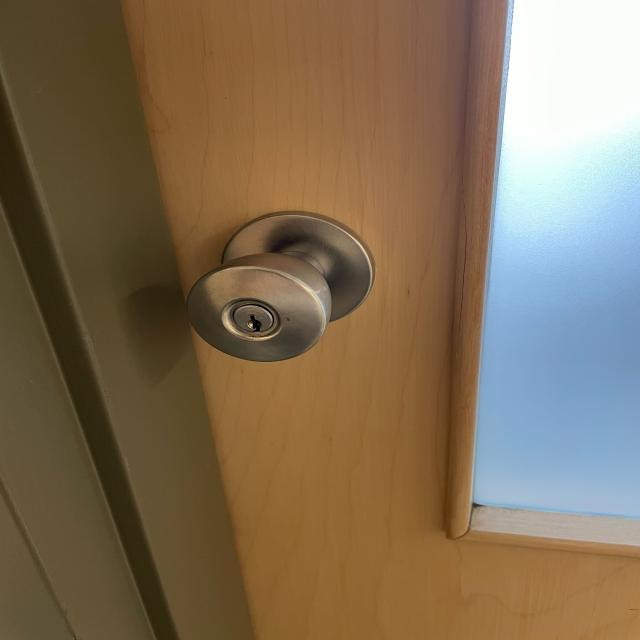door-knob: (187, 211, 375, 361)
